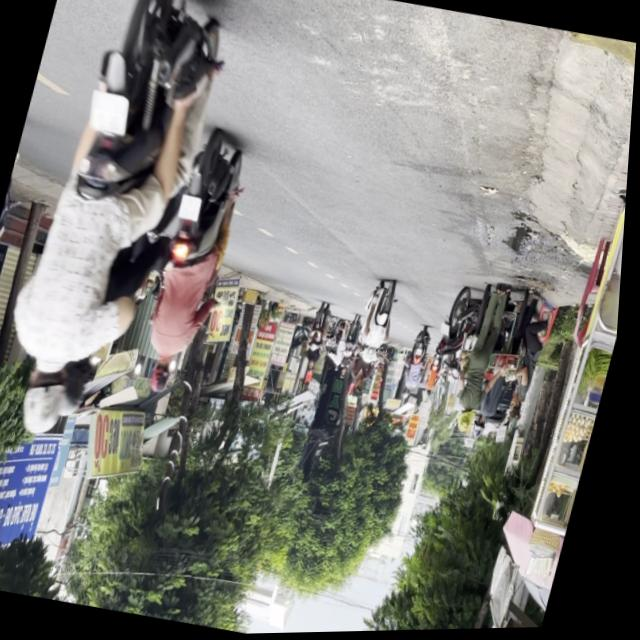helmet: (17, 357, 78, 439), (58, 349, 103, 419)
licenseplate: (0, 0, 251, 455), (130, 129, 261, 405)
motorcyclist: (149, 356, 178, 397)
nohelmet: (84, 91, 135, 137), (179, 195, 205, 221)
